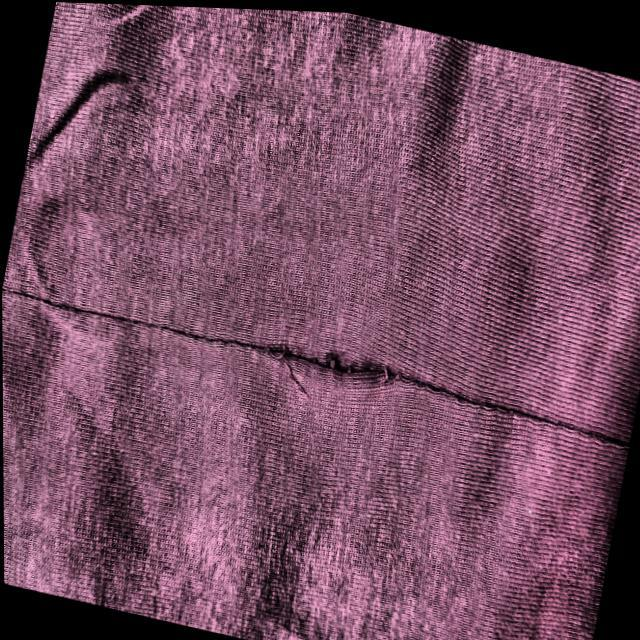Thread: (281, 356, 315, 404)
hole: (256, 338, 399, 392)
seam: (402, 369, 634, 456), (0, 282, 255, 355)
